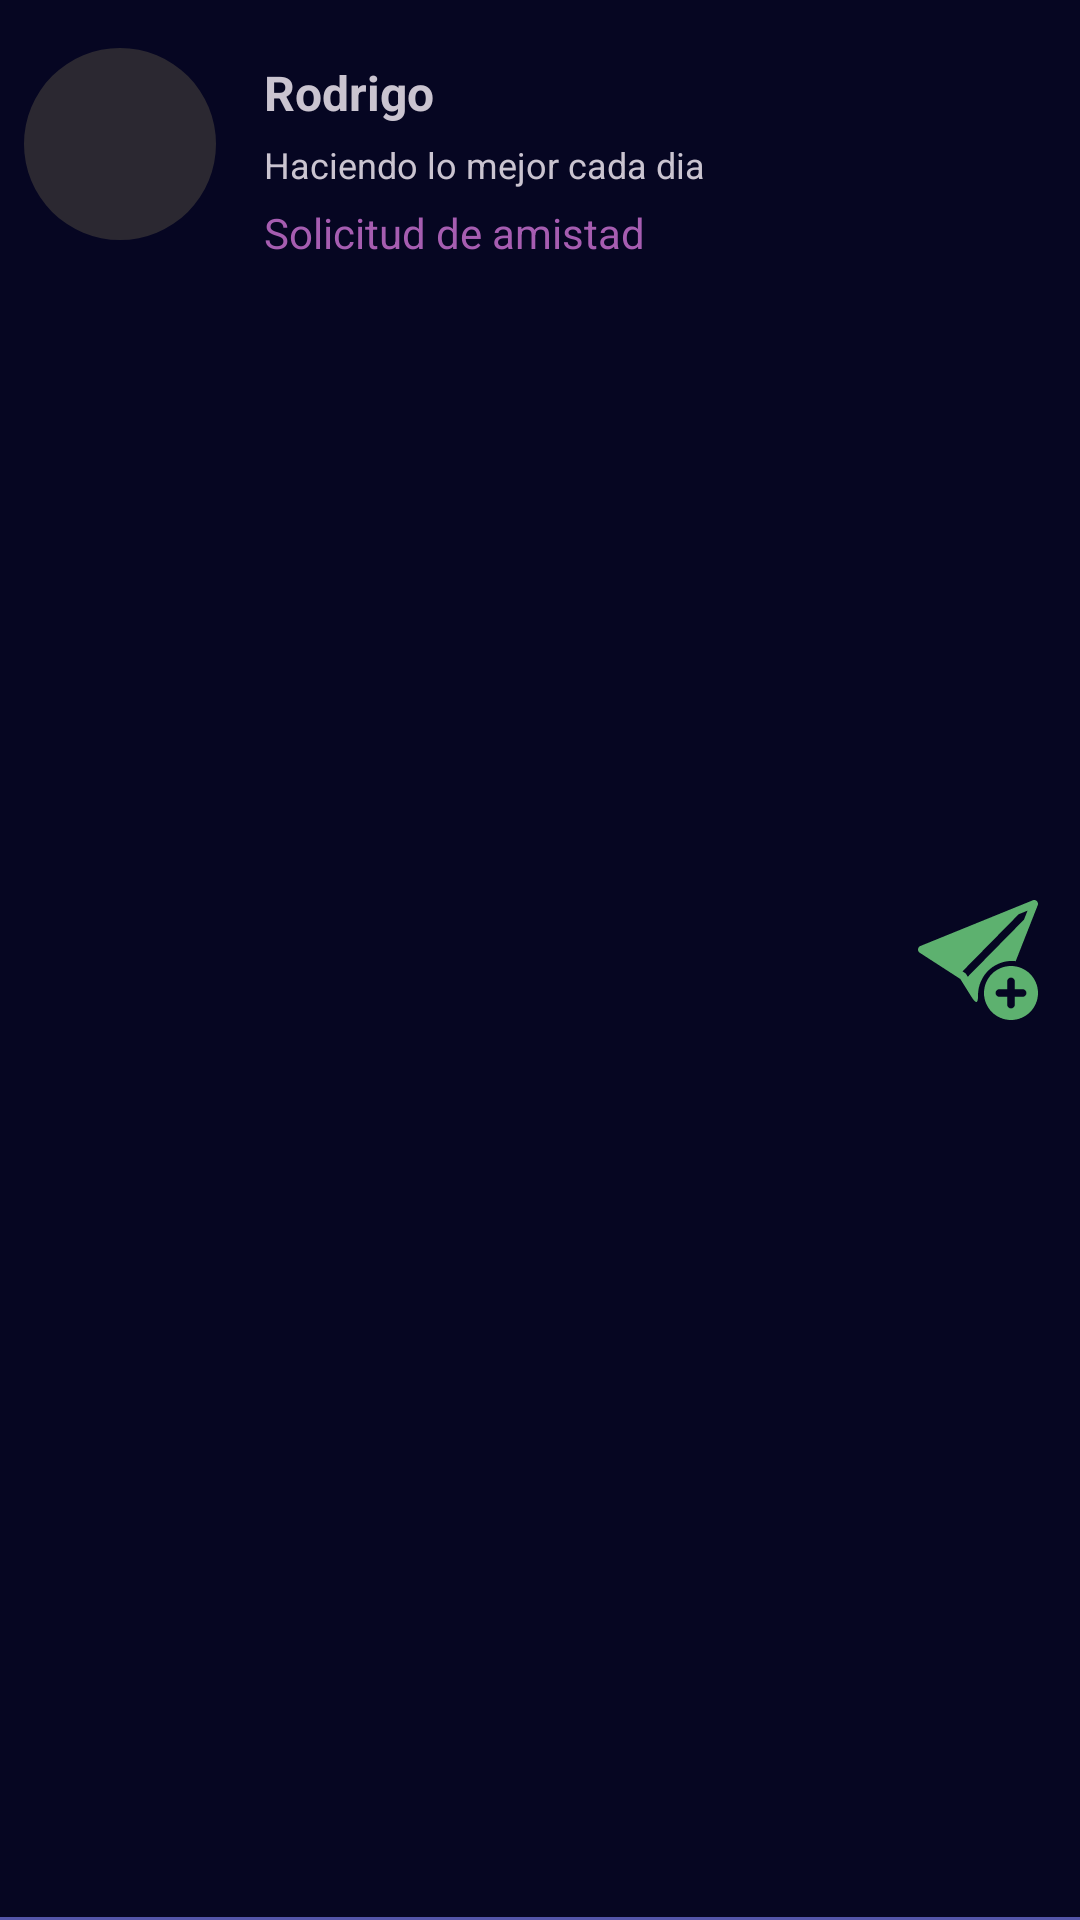

Named icons in this screenshot (1080px×1920px) and their bounding boxes, bbox=[x1, y1, x2, y2]:
invite: bbox=[918, 900, 1038, 1020]
